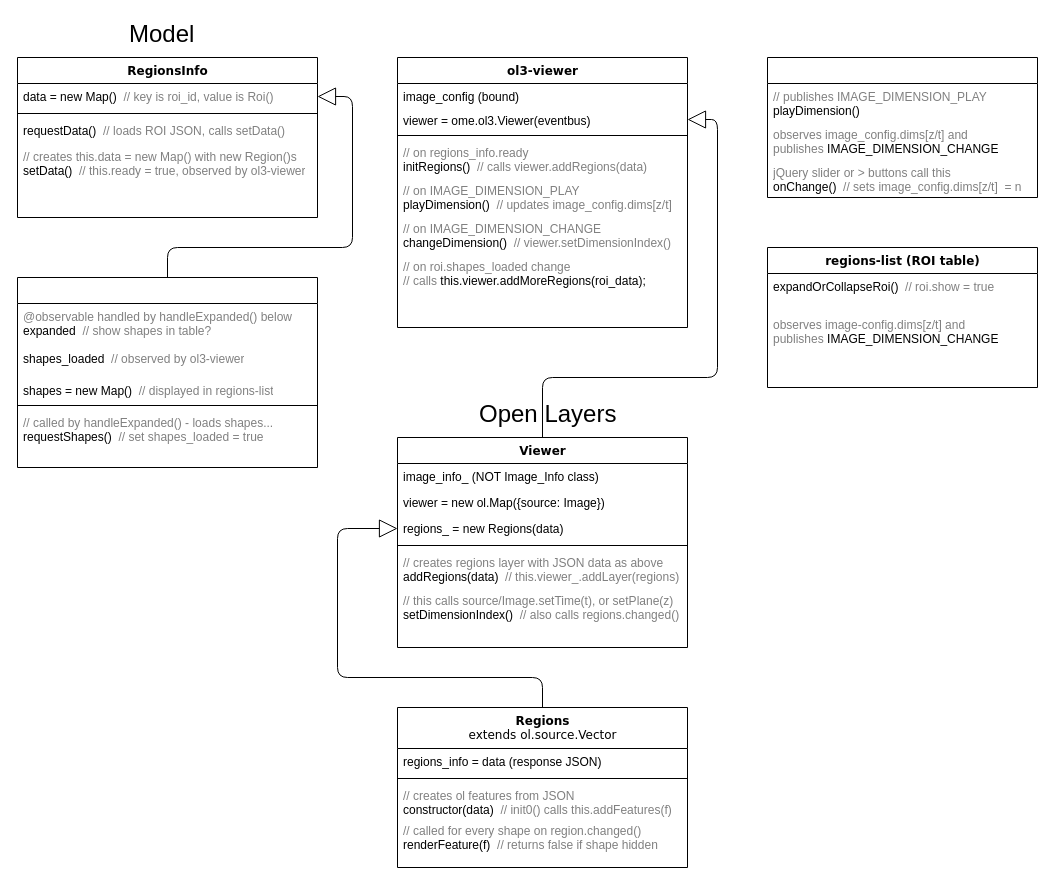
The diagram is 1055 pixels wide and 885 high, and some of its shapes have lost their labels. Each missing label, with the box of its shape:
dimension-slider (Z/T sliders): (766, 56, 1038, 198)
Roi: (16, 276, 318, 468)
